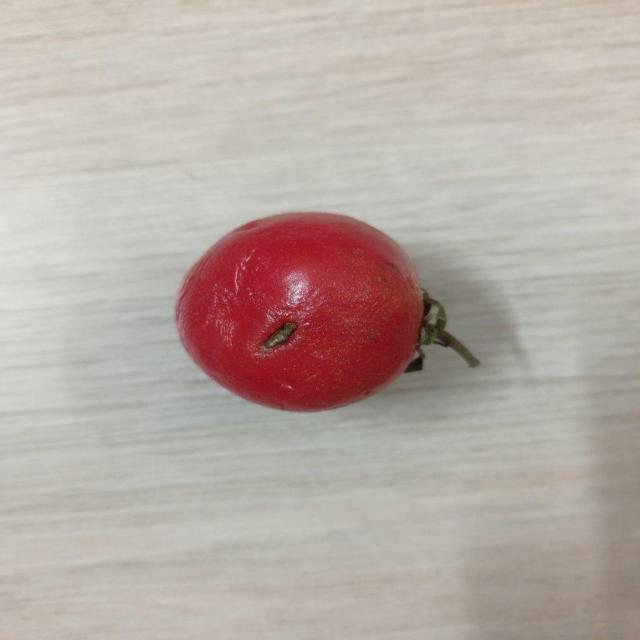Tomato: (176, 204, 488, 413)
